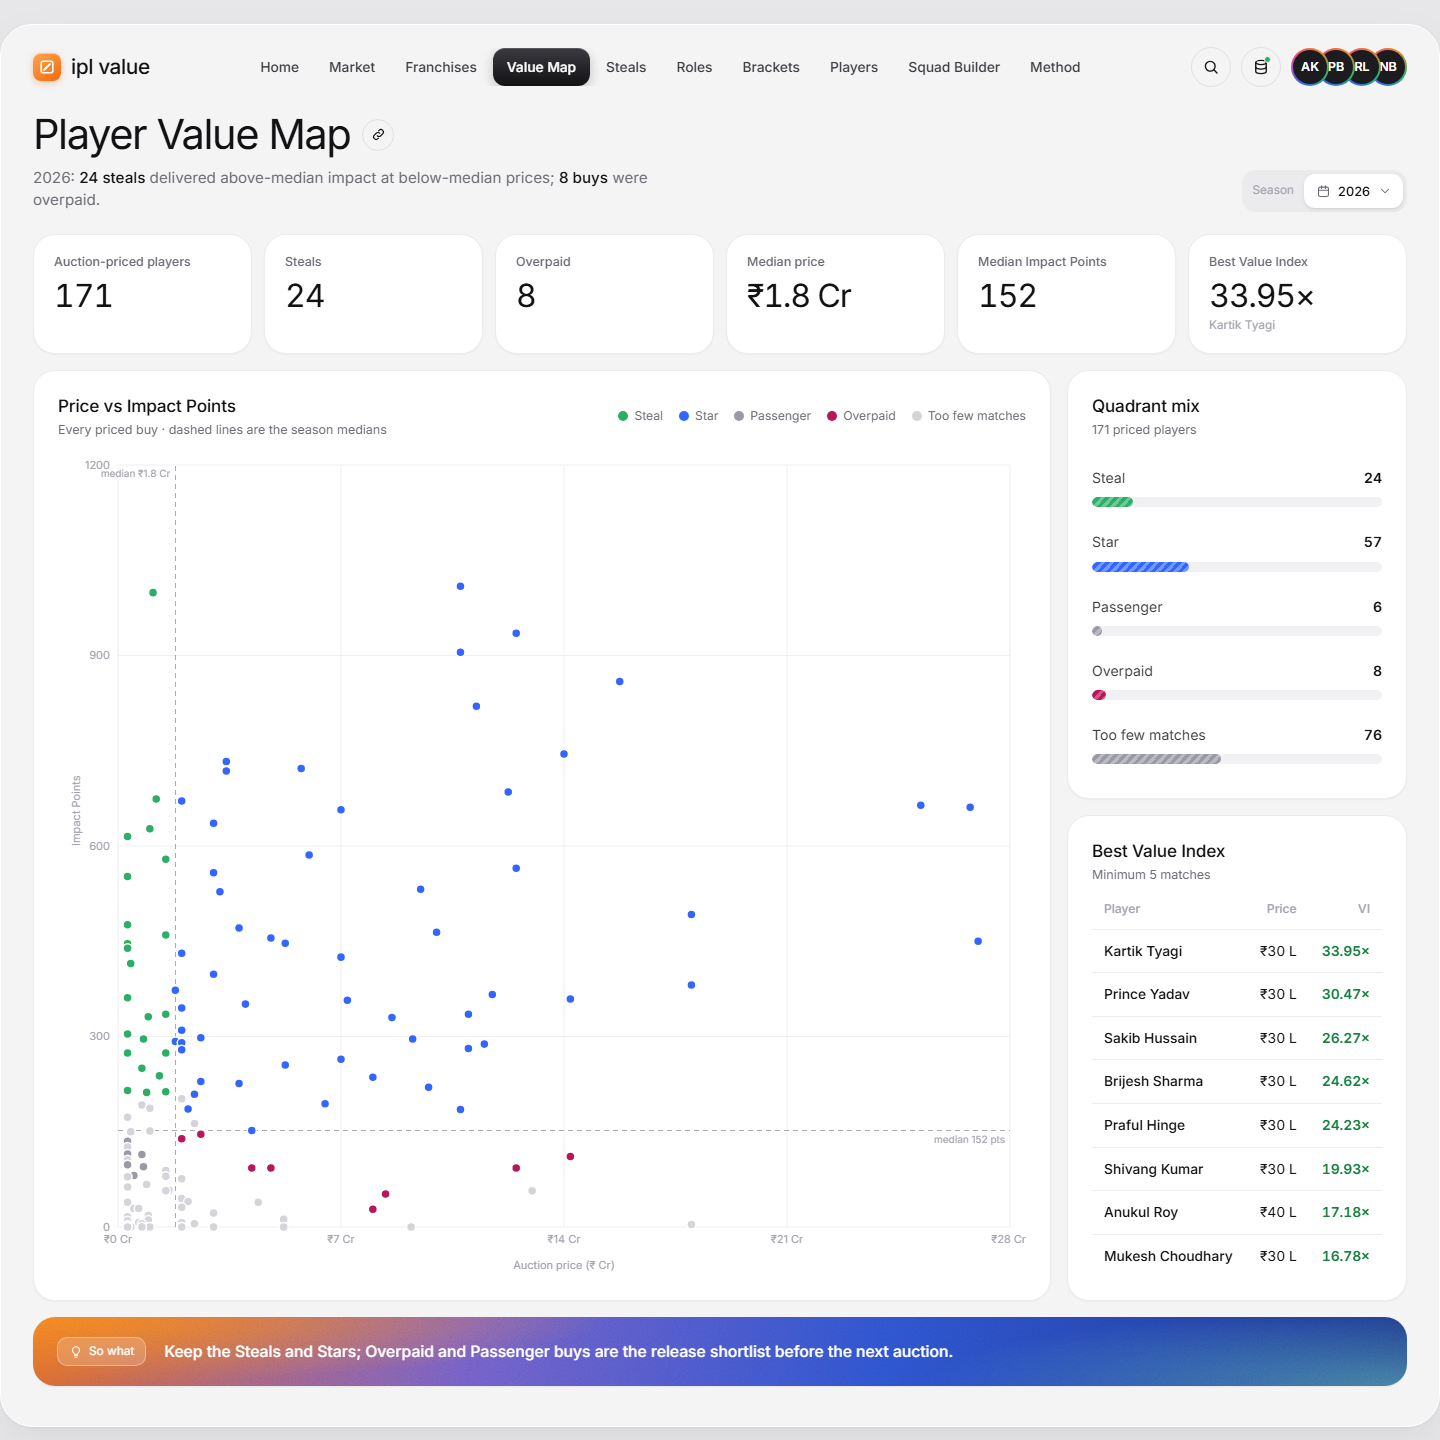

The page's visual inventory and layout, read from the dashboard file:
{"tool":"powerbi","page":{"name":"3 Player Value Map","canvas":[1280,720],"ordinal":3},"visuals":[{"type":"textbox","box":[16,8,270,66],"z":1000},{"type":"textbox","box":[300,14,748,44],"z":2000},{"type":"actionButton","title":"Home","box":[306,20,88,32],"z":3000},{"type":"actionButton","title":"Market","box":[398,20,88,32],"z":4000},{"type":"actionButton","title":"Franchises","box":[490,20,88,32],"z":5000},{"type":"actionButton","title":"Value Map","box":[582,20,88,32],"z":6000},{"type":"actionButton","title":"Steals","box":[674,20,88,32],"z":7000},{"type":"actionButton","title":"Roles","box":[766,20,88,32],"z":8000},{"type":"actionButton","title":"Brackets","box":[858,20,88,32],"z":9000},{"type":"actionButton","title":"Method","box":[950,20,88,32],"z":10000},{"type":"actionButton","title":"i","box":[1062,14,44,44],"z":11000},{"type":"textbox","box":[16,74,1248,50],"z":12000},{"type":"card","fields":{"Values":["_Measures.Priced Player Seasons"]},"box":[16,126,200,62],"z":13000},{"type":"card","fields":{"Values":["_Measures.Steal Count"]},"box":[224,126,200,62],"z":14000},{"type":"card","fields":{"Values":["_Measures.Overpaid Count"]},"box":[432,126,200,62],"z":15000},{"type":"card","fields":{"Values":["_Measures.Median Priced Price Cr"]},"box":[640,126,200,62],"z":16000},{"type":"card","fields":{"Values":["_Measures.Median Priced Impact"]},"box":[848,126,200,62],"z":17000},{"type":"card","fields":{"Values":["_Measures.Top Steal Label"]},"box":[1056,126,200,62],"z":18000},{"type":"textbox","box":[16,192,196,330],"z":19000},{"type":"slicer","fields":{"Values":["DimSeason.Season"]},"box":[24,202,180,64],"z":20000},{"type":"slicer","fields":{"Values":["DimTeam.TeamName"]},"box":[24,276,180,64],"z":21000},{"type":"slicer","fields":{"Values":["DimPlayer.Role"]},"box":[24,350,180,64],"z":22000},{"type":"slicer","fields":{"Values":["DimPlayer.Nationality"]},"box":[24,424,180,64],"z":23000},{"type":"textbox","box":[16,532,196,172],"z":24000},{"type":"scatterChart","title":"Price vs Impact Points · dashed lines = season medians","fields":{"Category":["DimPlayer.PlayerName"],"Series":["FactPlayerSeason.Value Quadrant"],"X":["_Measures.Spend Cr"],"Y":["_Measures.Priced Impact"]},"box":[224,192,700,512],"z":25000},{"type":"tableEx","title":"Quadrant mix","fields":{"Values":["FactPlayerSeason.Value Quadrant","_Measures.Player Seasons","_Measures.Spend Cr"]},"box":[934,192,330,214],"z":26000},{"type":"tableEx","title":"Best Value Index this season","fields":{"Values":["DimPlayer.PlayerName","_Measures.Spend Cr","_Measures.Value Index (min 5 matches)"]},"box":[934,416,330,288],"z":27000}]}

Visuals, with their boxes on the page's 1280x720 design canvas (x1, y1, x2, y2). These are canvas units, not pixel positions in the 1440x1440 screenshot, which may show the page scaled, cropped or inside an application window:
textbox: BBox(16, 8, 286, 74)
textbox: BBox(300, 14, 1048, 58)
"Home" actionButton: BBox(306, 20, 394, 52)
"Market" actionButton: BBox(398, 20, 486, 52)
"Franchises" actionButton: BBox(490, 20, 578, 52)
"Value Map" actionButton: BBox(582, 20, 670, 52)
"Steals" actionButton: BBox(674, 20, 762, 52)
"Roles" actionButton: BBox(766, 20, 854, 52)
"Brackets" actionButton: BBox(858, 20, 946, 52)
"Method" actionButton: BBox(950, 20, 1038, 52)
"i" actionButton: BBox(1062, 14, 1106, 58)
textbox: BBox(16, 74, 1264, 124)
card - _Measures.Priced Player Seasons: BBox(16, 126, 216, 188)
card - _Measures.Steal Count: BBox(224, 126, 424, 188)
card - _Measures.Overpaid Count: BBox(432, 126, 632, 188)
card - _Measures.Median Priced Price Cr: BBox(640, 126, 840, 188)
card - _Measures.Median Priced Impact: BBox(848, 126, 1048, 188)
card - _Measures.Top Steal Label: BBox(1056, 126, 1256, 188)
textbox: BBox(16, 192, 212, 522)
slicer - DimSeason.Season: BBox(24, 202, 204, 266)
slicer - DimTeam.TeamName: BBox(24, 276, 204, 340)
slicer - DimPlayer.Role: BBox(24, 350, 204, 414)
slicer - DimPlayer.Nationality: BBox(24, 424, 204, 488)
textbox: BBox(16, 532, 212, 704)
"Price vs Impact Points · dashed lines = season medians" scatterChart: BBox(224, 192, 924, 704)
"Quadrant mix" tableEx: BBox(934, 192, 1264, 406)
"Best Value Index this season" tableEx: BBox(934, 416, 1264, 704)
